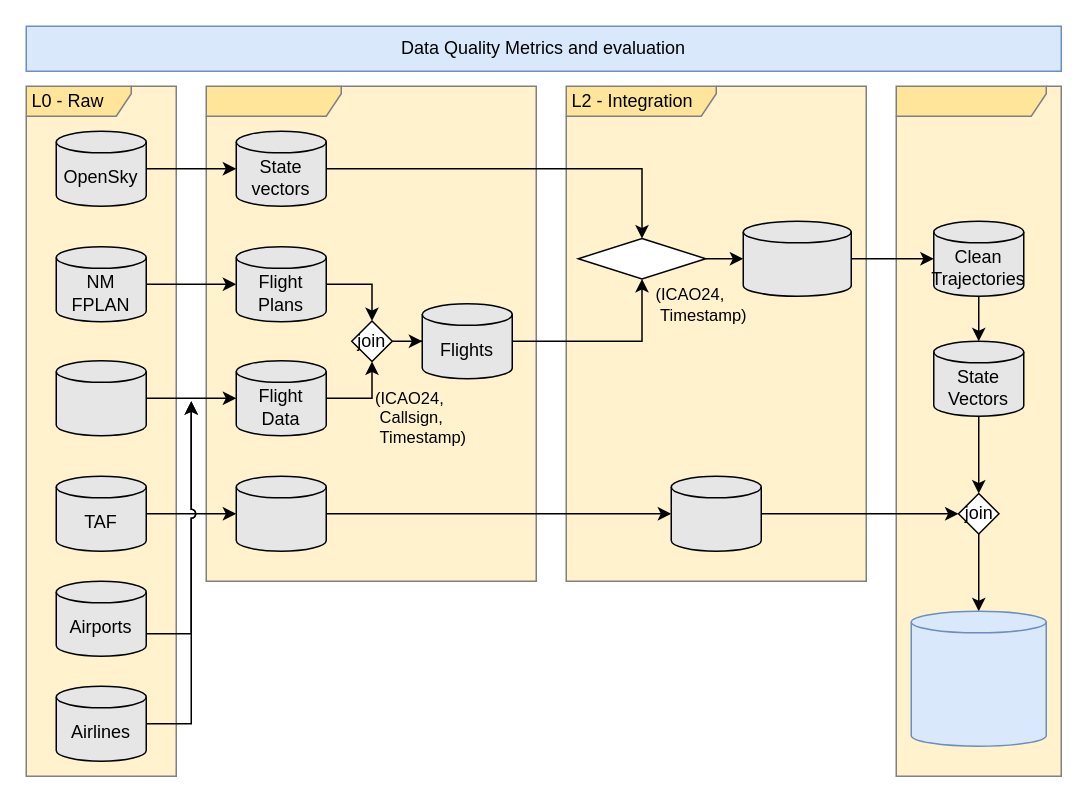
The diagram is 1088 pixels wide and 803 high, and some of its shapes have lost their labels. The shapes that lost their labels are listed below. From the top down, each one's box as (x1, y1, x2, y2) in pixels, then its label:
(577, 237, 706, 279): integration
(742, 220, 851, 296): Trajectories
(205, 85, 536, 581): L1 - Cleaning
(55, 359, 146, 436): NM FDATA
(895, 85, 1061, 776): L3 - Enrichment
(235, 475, 326, 551): Weather Forecast
(670, 475, 761, 551): Current Forecast
(910, 610, 1046, 746): Enriched 4D Trajectories
